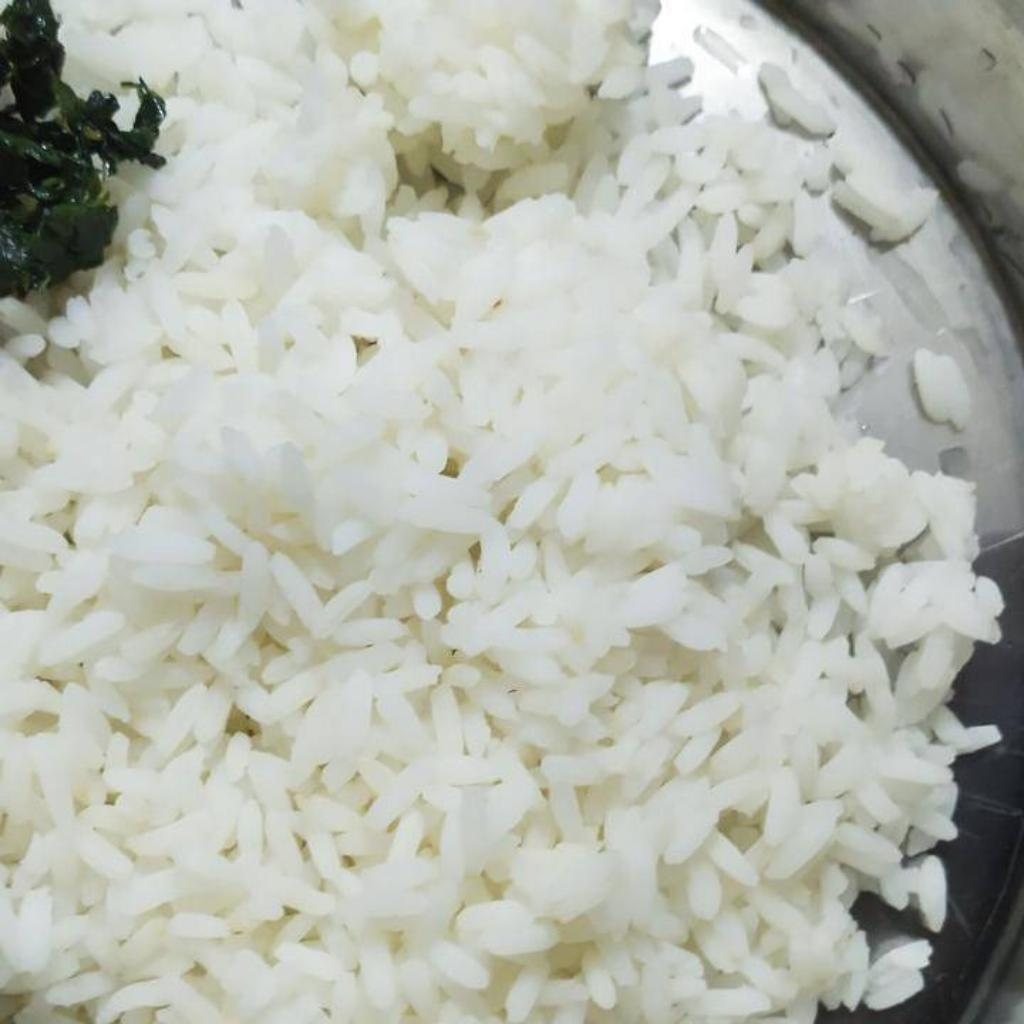rice: (0, 0, 1000, 1023)
shak: (0, 0, 165, 296)
